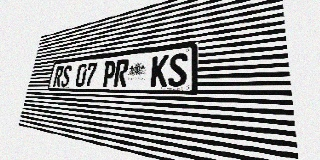0: (74, 63, 88, 87)
7: (84, 62, 98, 87)
K: (150, 55, 169, 87)
P: (101, 60, 116, 87)
R: (113, 59, 129, 87), (53, 66, 64, 87)
S: (167, 53, 188, 87), (60, 65, 72, 87)
